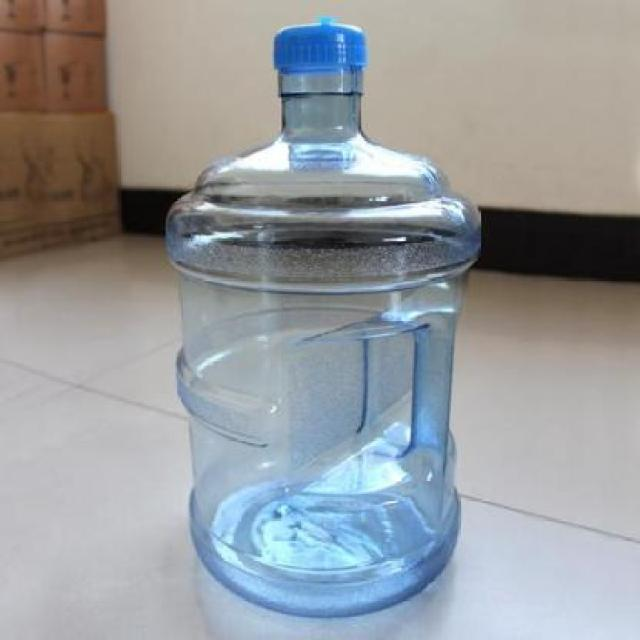coolerbottle: (163, 17, 489, 625)
